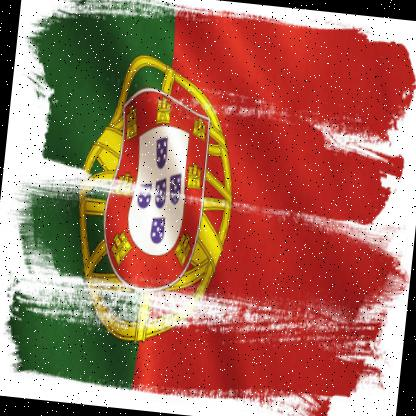pt: (18, 1, 404, 415)
